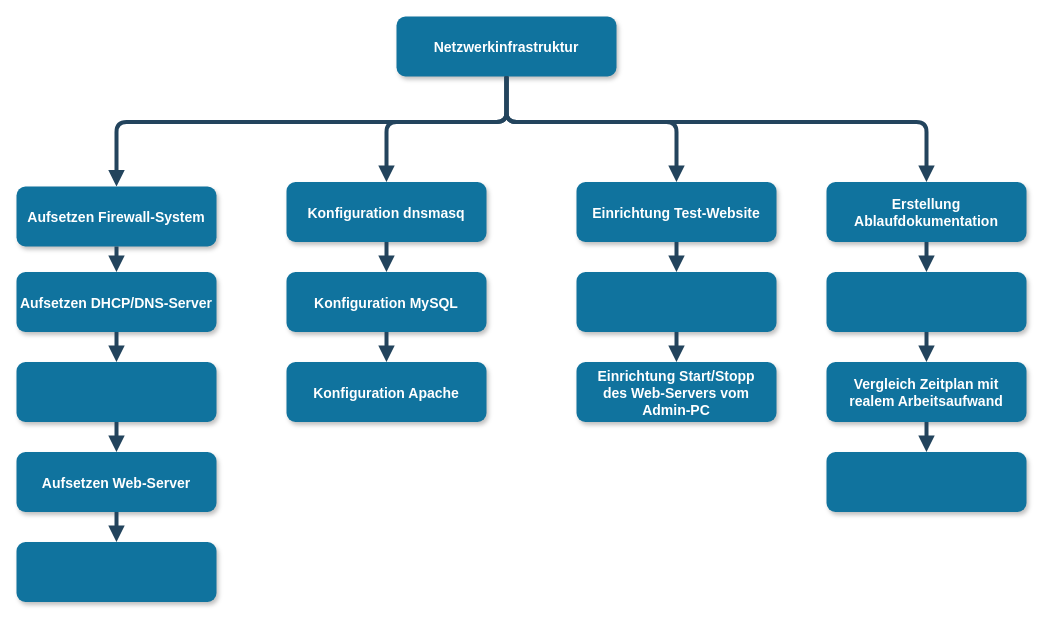
This 1043x618 diagram has some shape labels left out. The shapes that lost their labels are listed below. From the top down, each one's centre as x and y in pixels, then its label:
At (677,303): "Nachweis der Nutzbarkeit der Website, debugging".
At (927,303): "Soll-Ist-Vergleich".
At (117,393): "Aufsetzen Datenbank-Server".
At (927,483): "Optimierungsvorschläge".
At (117,573): "Aufsetzen, Konfiguration Admin-PC".
